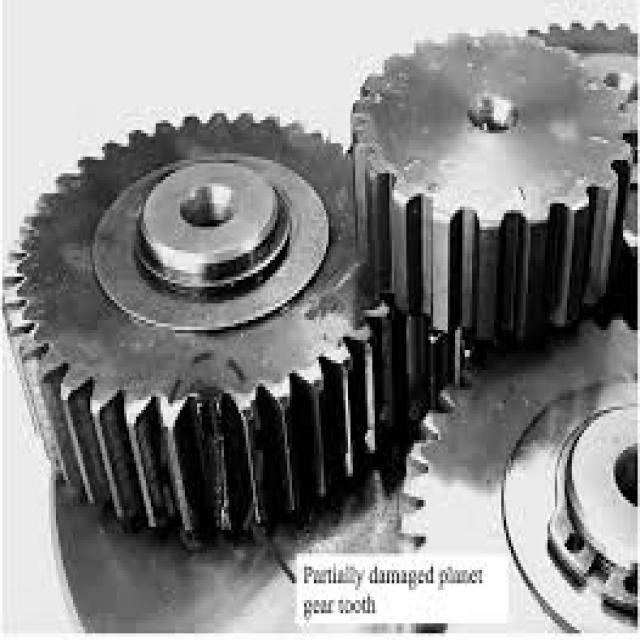Fault-Exist: (65, 371, 368, 560)
No Fault: (2, 31, 345, 327), (347, 60, 629, 359)
